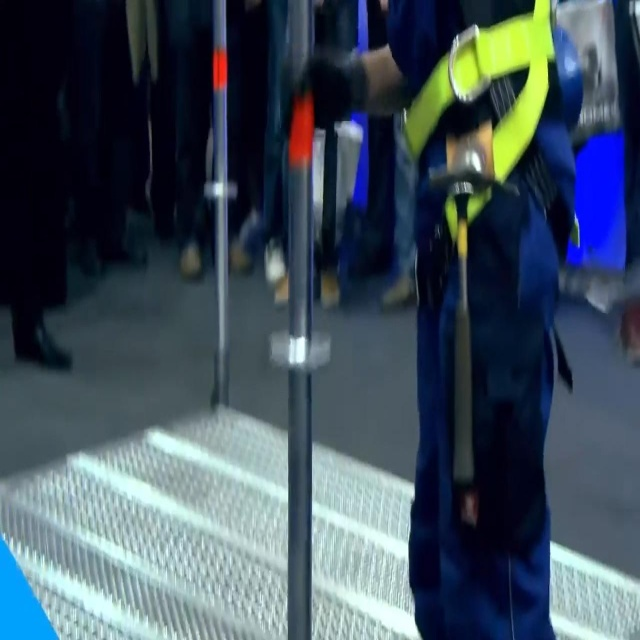Arnes_seguridad: (390, 0, 583, 344)
